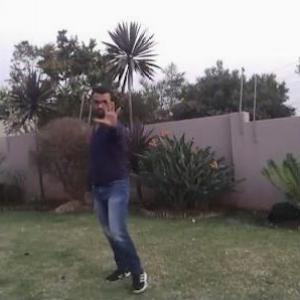follow_hand: (92, 92, 124, 128)
